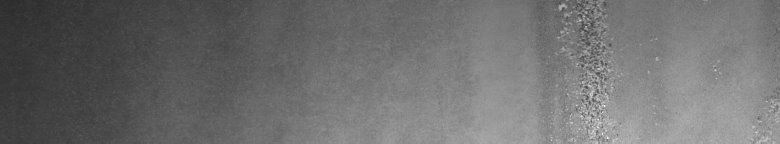hc: (554, 4, 776, 136)
